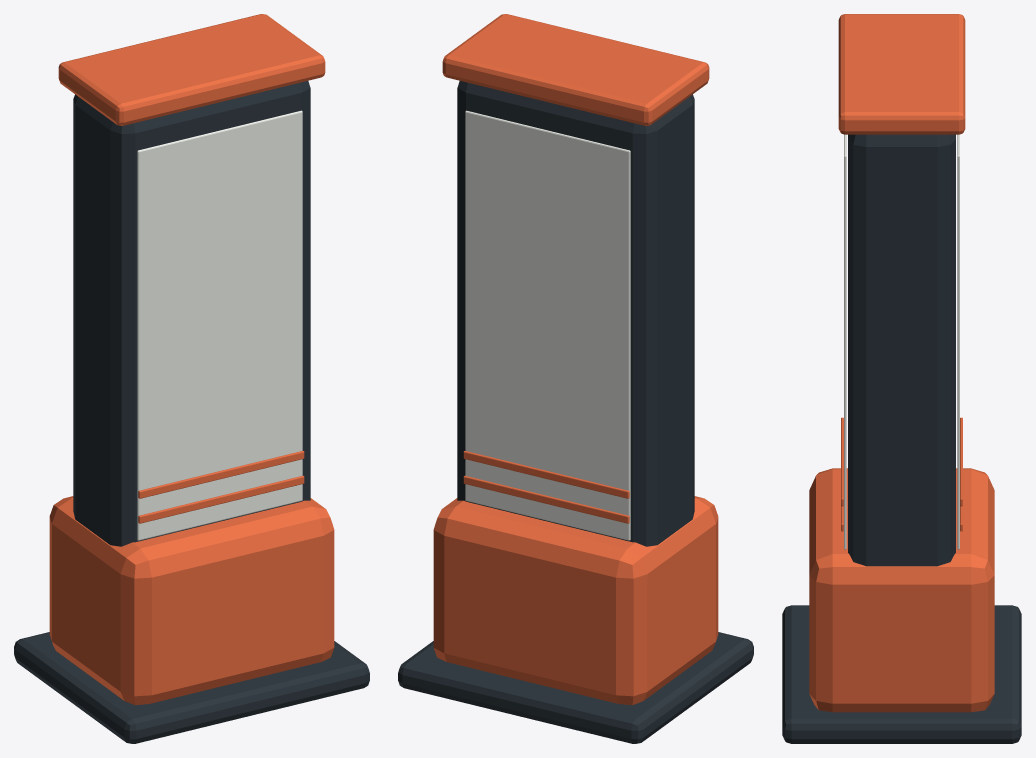
The model's file is powder-finish-v1.glb.
3 renders of one model, left to right at view 1: azimuth 30°, elevation 25°; view 2: azimuth 150°, elevation 25°; view 3: azimuth 270°, elevation 25°, orthographic.
Parts seen in each view (by area): view 1: FinishPylon_CORK7 vermilion, FinishPylon_Ivory markings, FinishPylon_Powder coated graphite; view 2: FinishPylon_CORK7 vermilion, FinishPylon_Ivory markings, FinishPylon_Powder coated graphite; view 3: FinishPylon_Powder coated graphite, FinishPylon_CORK7 vermilion, FinishPylon_Ivory markings.
Part boxes in pixels (x1,y1,x2,y2): FinishPylon_CORK7 vermilion: (49, 14, 334, 705); FinishPylon_Ivory markings: (137, 110, 302, 540); FinishPylon_Powder coated graphite: (14, 81, 369, 743); FinishPylon_CORK7 vermilion: (433, 14, 718, 705); FinishPylon_Ivory markings: (465, 110, 630, 540); FinishPylon_Powder coated graphite: (398, 81, 753, 743); FinishPylon_Powder coated graphite: (782, 134, 1021, 743); FinishPylon_CORK7 vermilion: (809, 14, 994, 712); FinishPylon_Ivory markings: (844, 134, 959, 549).
Size of the model in its own units: 1.85 by 4.46 by 1.55.
